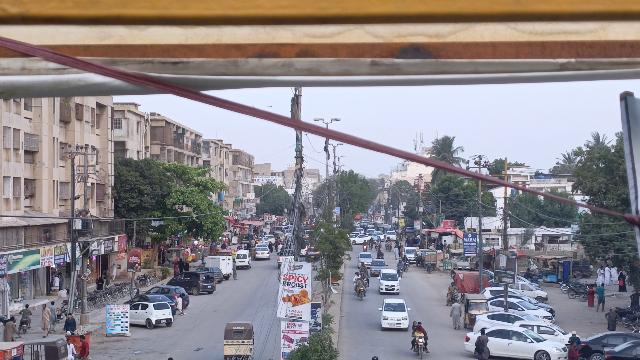Bike: (413, 335, 426, 359), (356, 286, 367, 302)
Car: (466, 325, 568, 360), (129, 301, 175, 329), (166, 270, 217, 295), (376, 298, 412, 332), (376, 268, 402, 297), (369, 259, 389, 276)
Person: (446, 298, 465, 332), (473, 327, 492, 360), (76, 334, 91, 360), (39, 302, 50, 336), (48, 299, 59, 329), (61, 311, 77, 331), (413, 319, 426, 336), (356, 275, 365, 285)
Rickshaw: (221, 320, 256, 360), (460, 293, 490, 330)
Truck: (201, 254, 233, 278)
